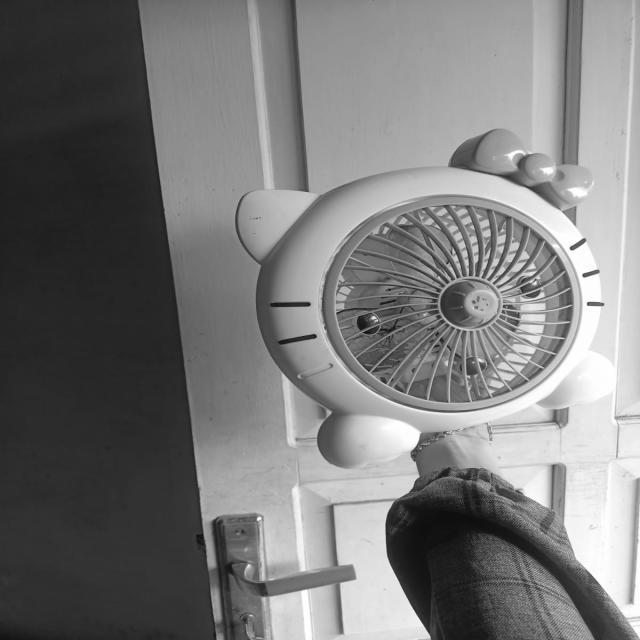fan: (215, 130, 617, 466)
